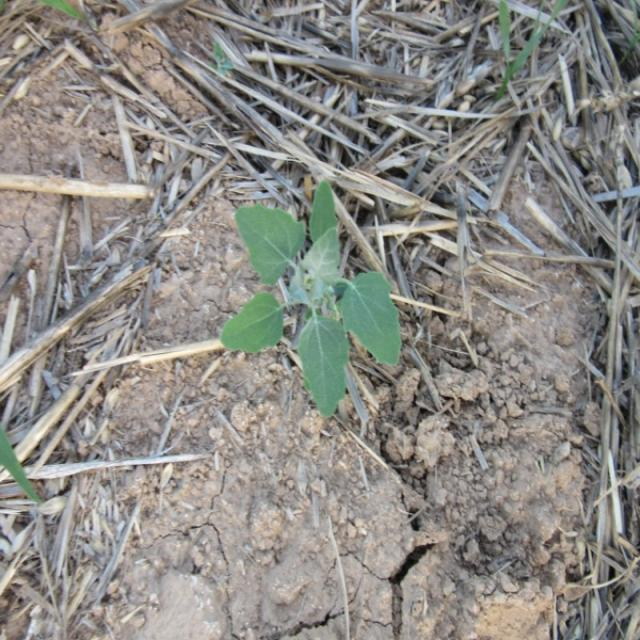ca: (233, 192, 405, 412)
